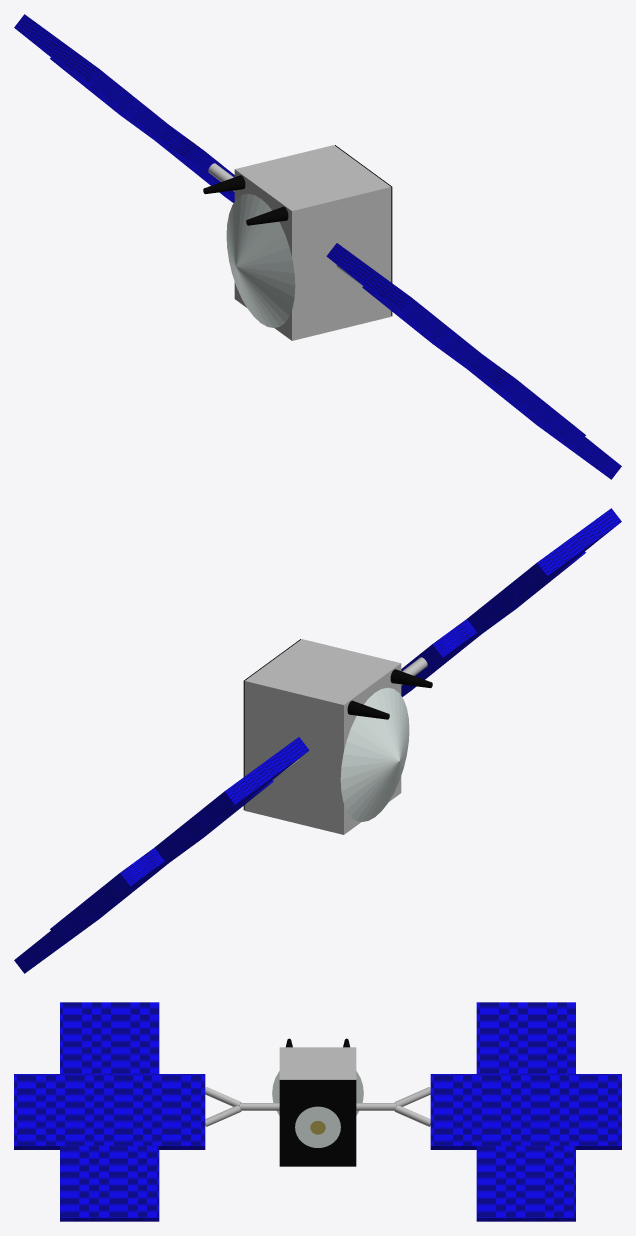
The model's file is PsycheSpacecraft-color.glb.
The picture shows the model from 3 angles, top to bottom: view 1: azimuth 30°, elevation 25°; view 2: azimuth 150°, elevation 25°; view 3: azimuth 270°, elevation 25°; orthographic projection. The views are drawn at different scales.
Parts seen in each view (by area): view 1: main, solarPanel, Cone, solarPanel.001; view 2: main, solarPanel.001, Cone, solarPanel; view 3: solarPanel, solarPanel.001, Plane, main, Circle, arm1, arm2, Cone.
Boxes of the visible parts, <box> form: main: <box>234,145,391,340</box>; solarPanel: <box>326,243,621,479</box>; Cone: <box>226,193,295,327</box>; solarPanel.001: <box>14,14,234,202</box>; main: <box>244,639,401,834</box>; solarPanel.001: <box>14,737,309,973</box>; Cone: <box>340,687,409,821</box>; solarPanel: <box>401,508,621,696</box>; solarPanel: <box>14,1002,205,1221</box>; solarPanel.001: <box>430,1002,621,1221</box>; Plane: <box>279,1080,356,1166</box>; main: <box>279,1047,356,1079</box>; Circle: <box>295,1106,340,1147</box>; arm1: <box>205,1087,279,1126</box>; arm2: <box>356,1087,430,1126</box>; Cone: <box>272,1071,363,1115</box>.
Bounding box in the file's own units: 4.45 × 4.45 × 15.9.
5 materials, 1 textured.
